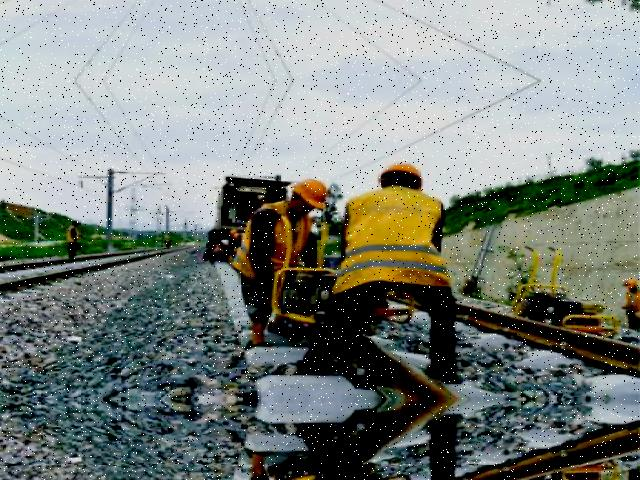Helmet: (287, 175, 330, 212), (373, 160, 421, 193)
